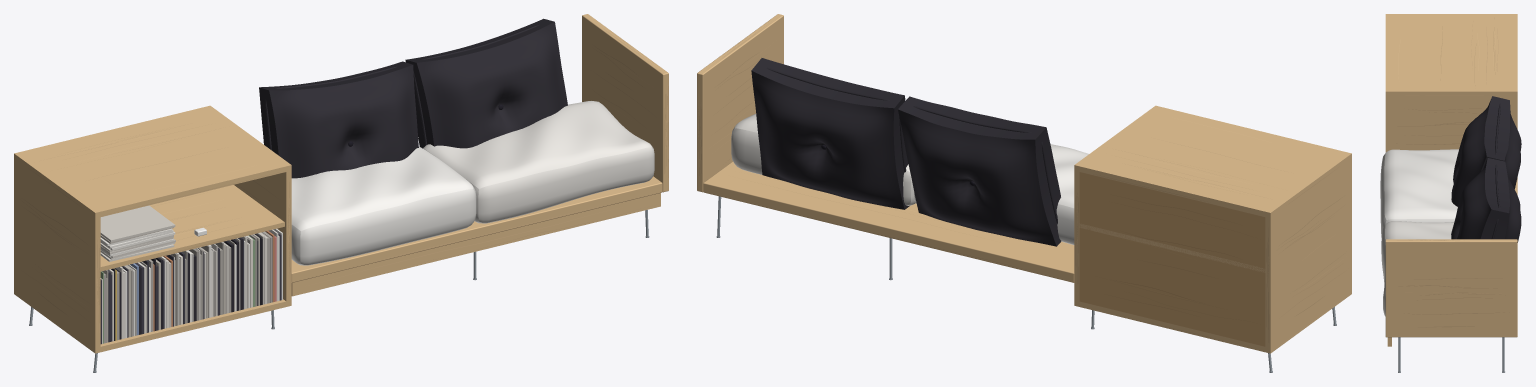
Rendered from coin-salon.glb.
3 views of the same model, side by side, from view 1: azimuth 30°, elevation 25°; view 2: azimuth 150°, elevation 25°; view 3: azimuth 270°, elevation 25° (orthographic). The views are drawn at different scales.
Visible parts, largest first — view 1: coin-salon; view 2: coin-salon; view 3: coin-salon.
Boxes of the visible parts, <box> form: coin-salon: <box>14,14,668,372</box>; coin-salon: <box>697,14,1351,372</box>; coin-salon: <box>1380,14,1521,372</box>.
Size of the model in its own units: 2.69 by 0.8213 by 0.7047.
